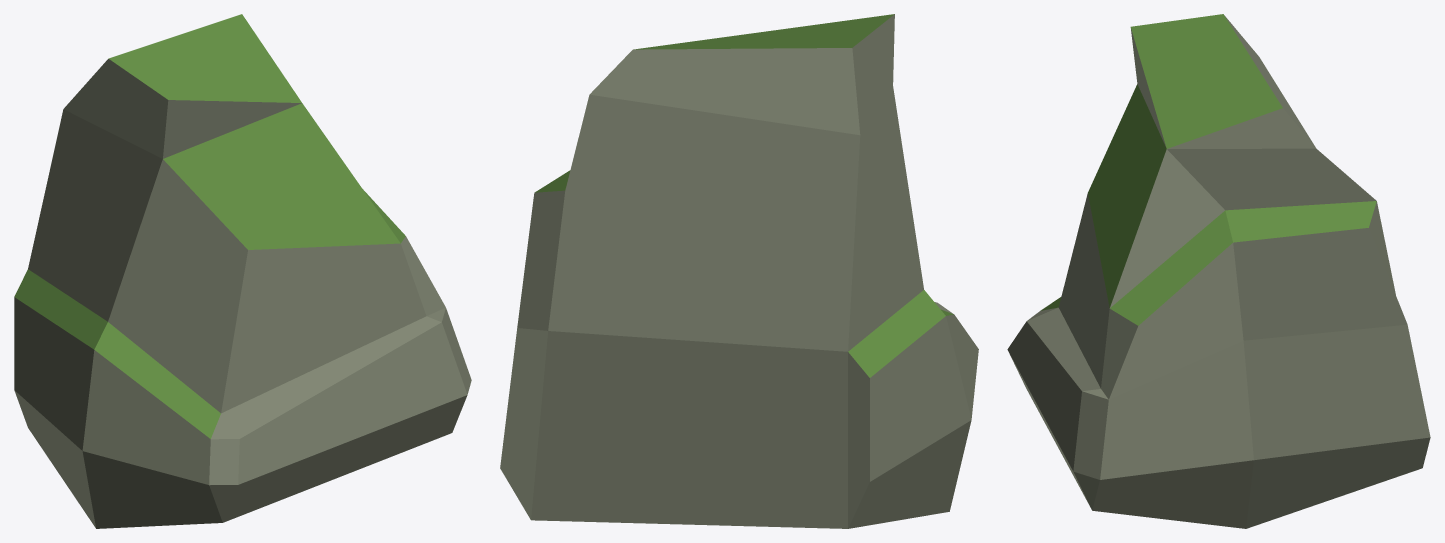
The model's file is mossrock_rock_moss_2.glb.
3 views of the same model, side by side, from view 1: azimuth 30°, elevation 25°; view 2: azimuth 150°, elevation 25°; view 3: azimuth 270°, elevation 25° (orthographic). The views are drawn at different scales.
Visible parts, largest first — view 1: Rock_Moss_2_Cube.021; view 2: Rock_Moss_2_Cube.021; view 3: Rock_Moss_2_Cube.021.
Boxes of the visible parts, box(x1,y1,x2,y2) form: Rock_Moss_2_Cube.021: box(14, 14, 471, 528); Rock_Moss_2_Cube.021: box(500, 14, 978, 528); Rock_Moss_2_Cube.021: box(1007, 14, 1430, 528).
Size of the model in its own units: 1.42 by 1.6 by 1.5.
